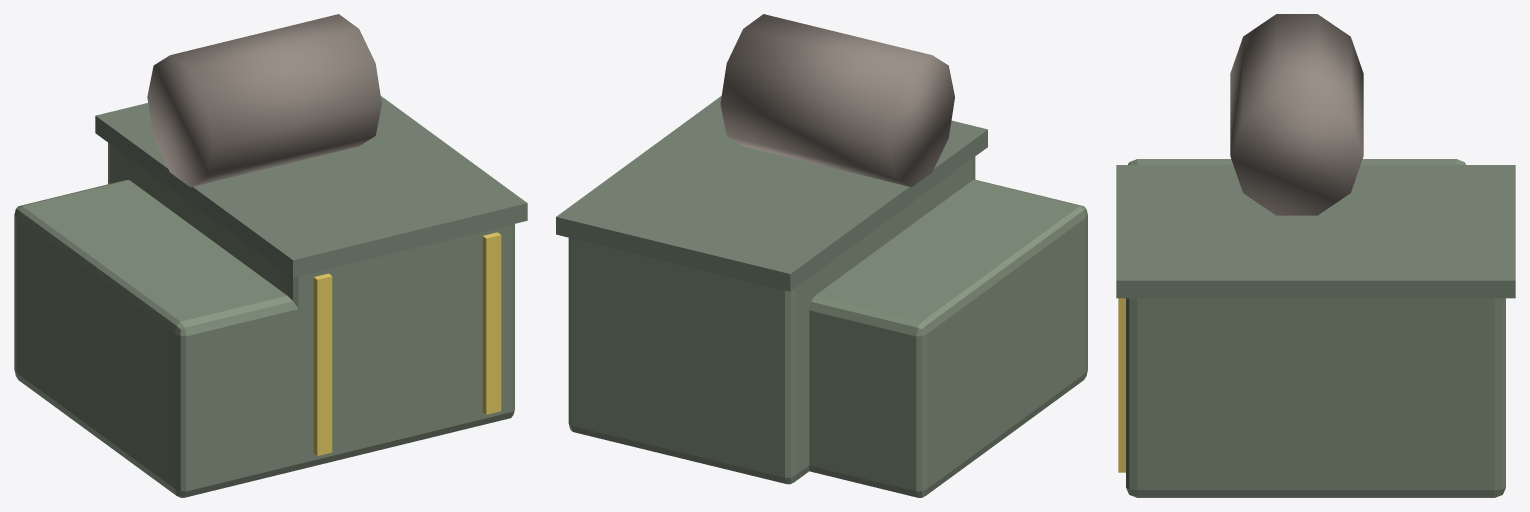
The model's file is fob_crates.fbx.
3 views of the same model, side by side, from view 1: azimuth 30°, elevation 25°; view 2: azimuth 150°, elevation 25°; view 3: azimuth 270°, elevation 25° (orthographic).
Visible parts, largest first — view 1: fob_crates; view 2: fob_crates; view 3: fob_crates.
Part boxes in pixels (box(x1,y1,x2,y2)): fob_crates: box(14, 14, 527, 497); fob_crates: box(556, 14, 1087, 497); fob_crates: box(1116, 14, 1515, 497).
Bounding box in the file's own units: 1 × 1 × 1.
